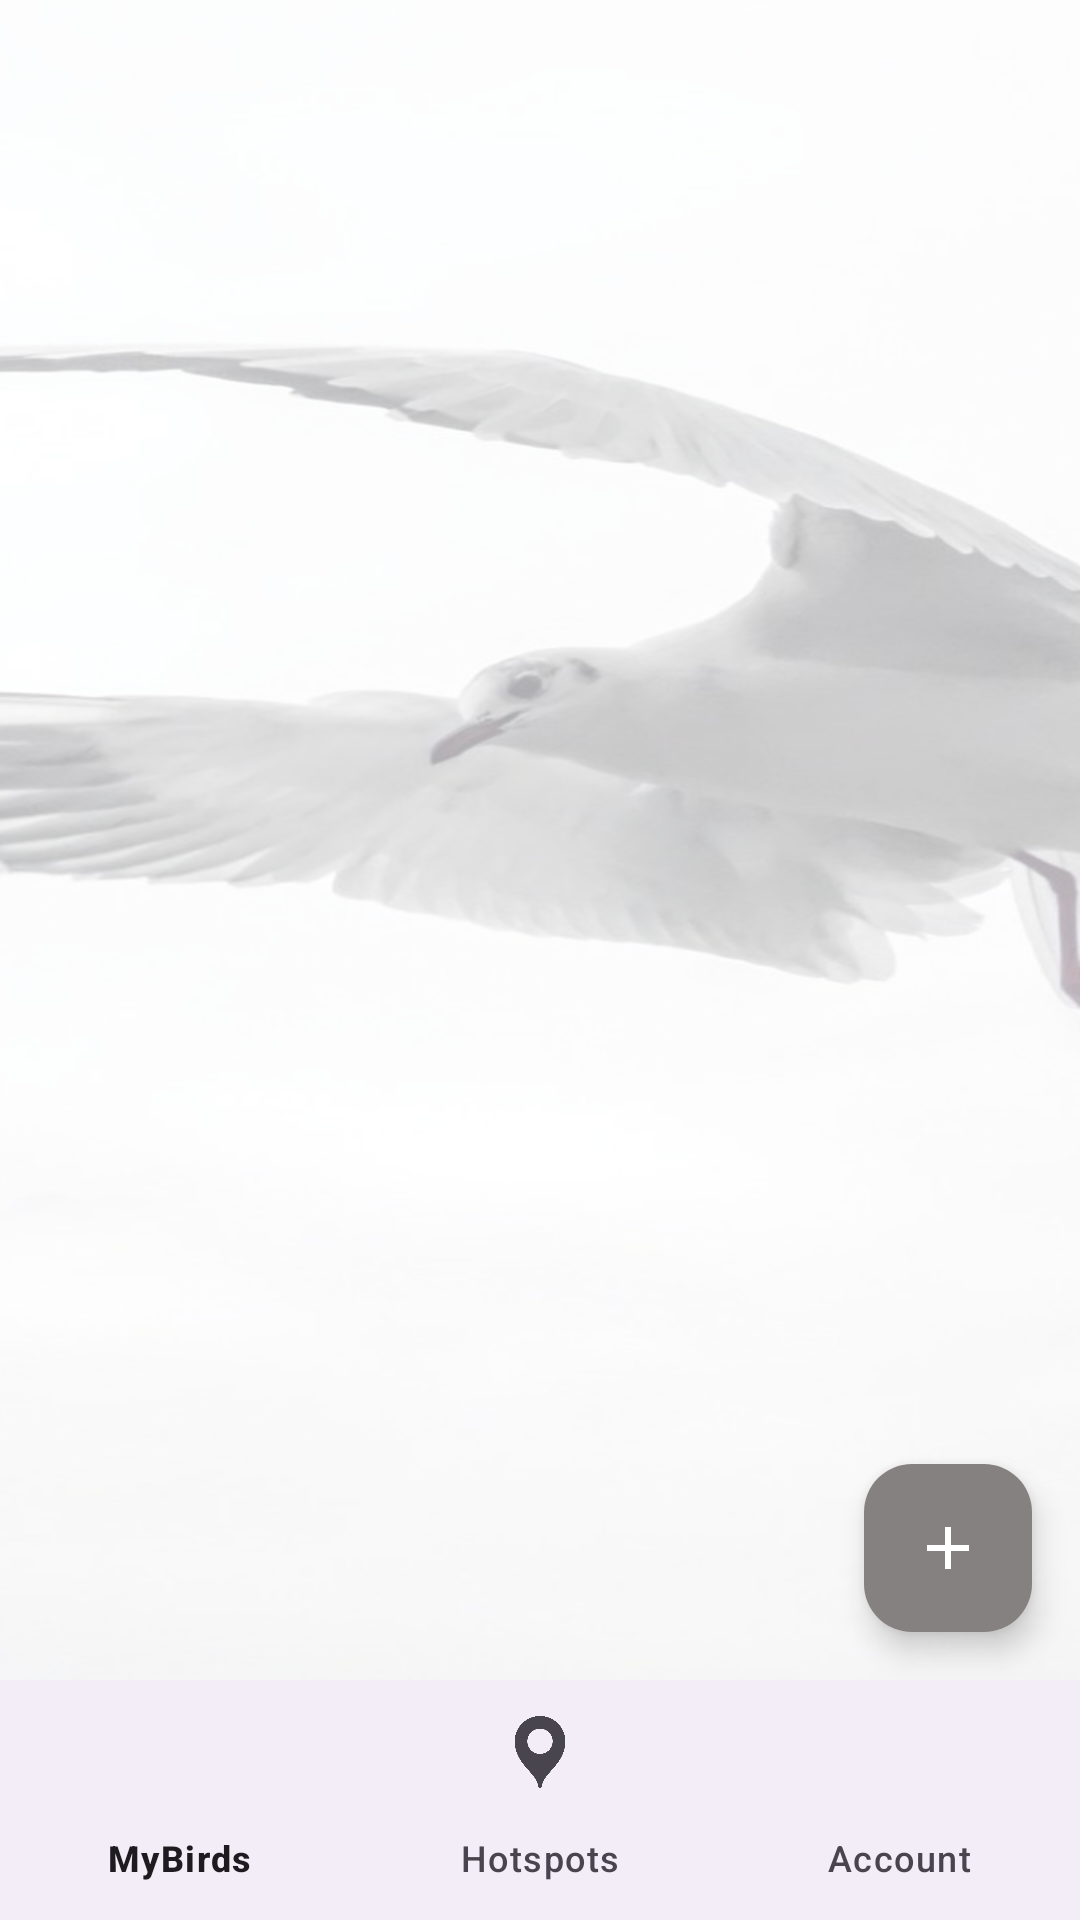

Where to tap for icons on this 1080*1920 app screen, as point (x, y):
add: point (948, 1548)
